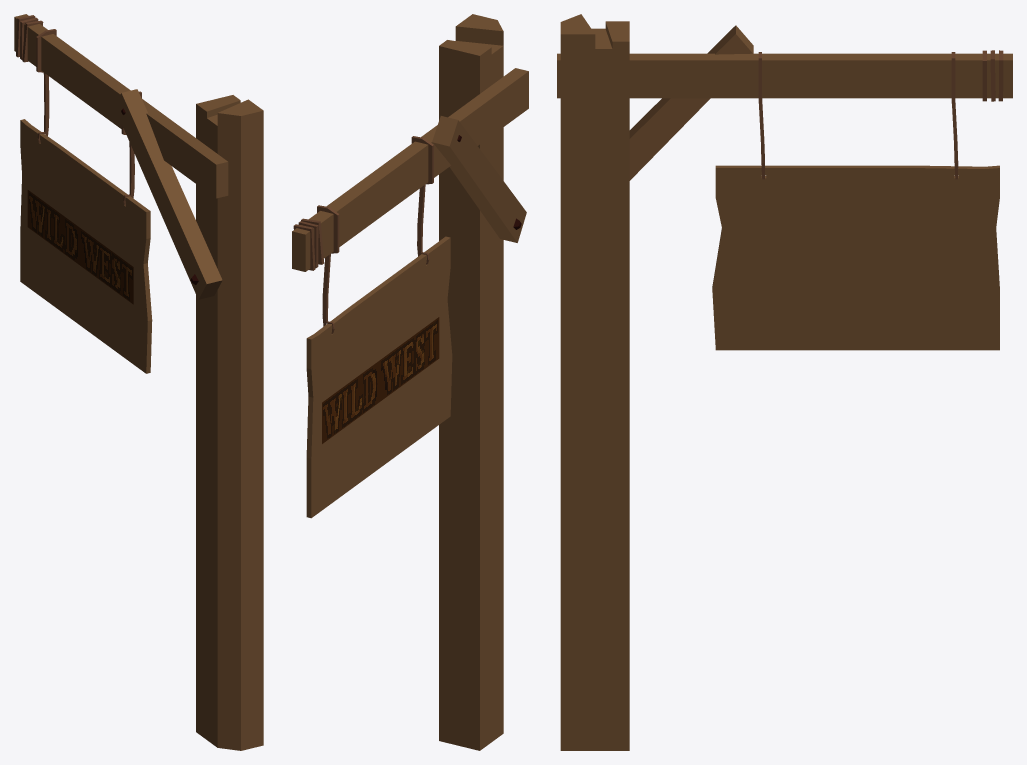
Rendered from PostSIgn.glb.
The picture shows the model from 3 angles, left to right: view 1: azimuth 30°, elevation 25°; view 2: azimuth 150°, elevation 25°; view 3: azimuth 270°, elevation 25°; orthographic projection. The views are drawn at different scales.
Visible parts, largest first — view 1: PostSIgn2; view 2: PostSIgn2; view 3: PostSIgn2.
Part boxes in pixels (x1,y1,x2,y2): PostSIgn2: (14, 14, 263, 750); PostSIgn2: (292, 14, 528, 750); PostSIgn2: (557, 14, 1012, 750).
Size of the model in its own units: 0.2872 by 2.67 by 1.54.
Materials: 2 (2 with a texture image).
